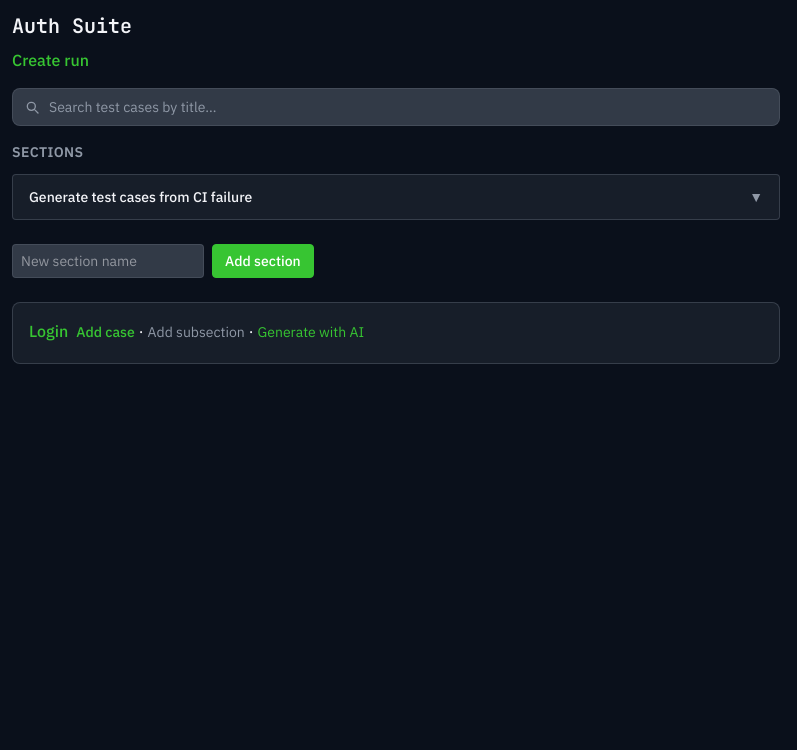
Test: SuiteView — CI failure panel › Generate button enabled after entering log text
expect the heading "Auth Suite" is shown: met, box [12,13,132,39]
Click the text "Generate test cases from CI failure": (141, 197) [29,187,252,207]
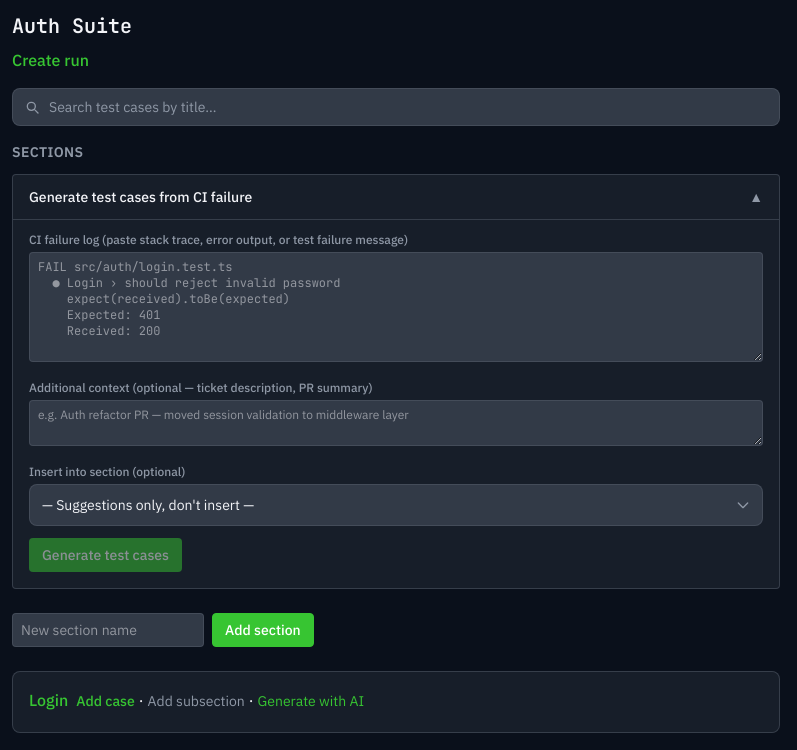
Replace the text in the text box with placeholder "FAIL src" with "Error: test failed": (396, 307) [29,252,763,362]
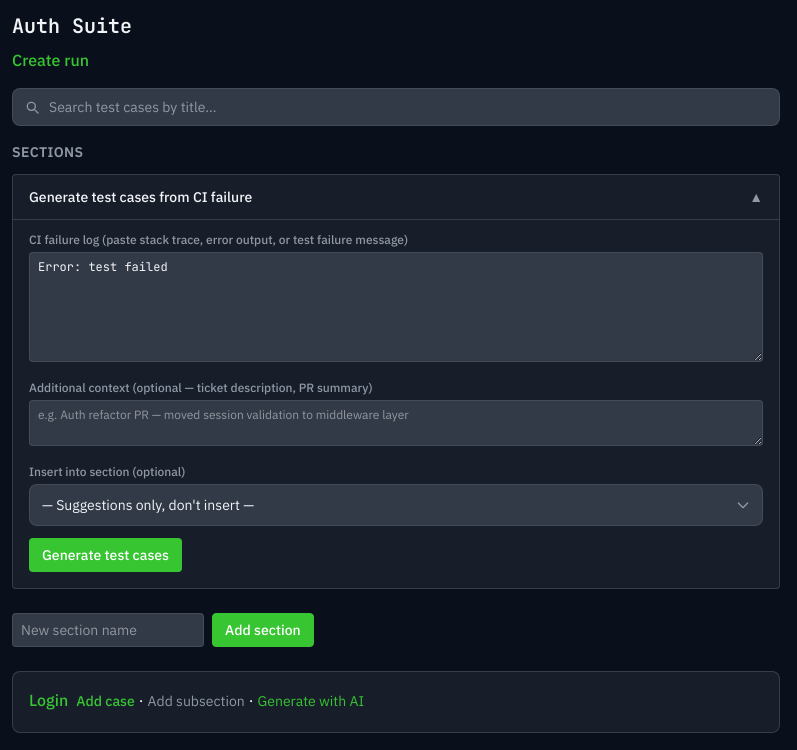
expect the button "Generate test cases" is enabled: met, box [29,538,182,572]
